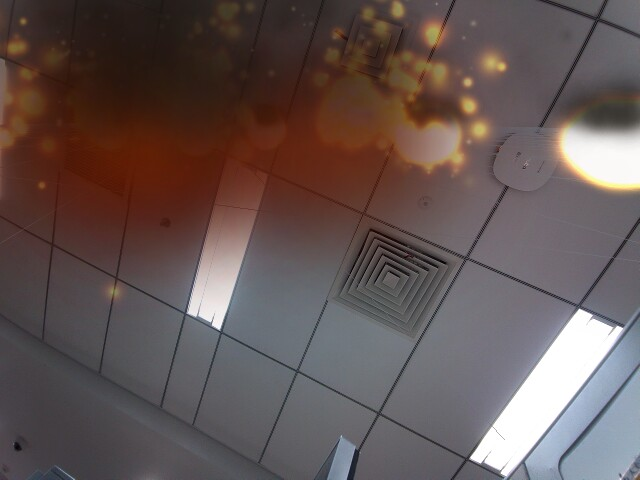fire: (556, 91, 640, 196), (311, 76, 386, 153), (394, 103, 462, 169)
